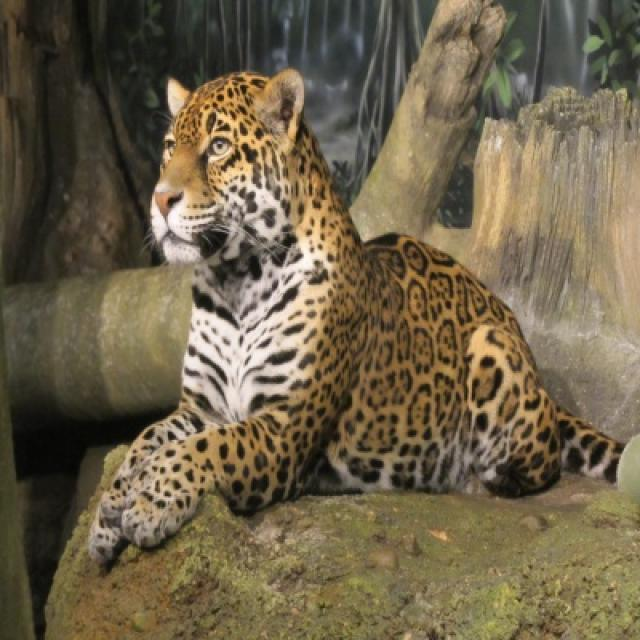Jaguar: (86, 69, 626, 574)
